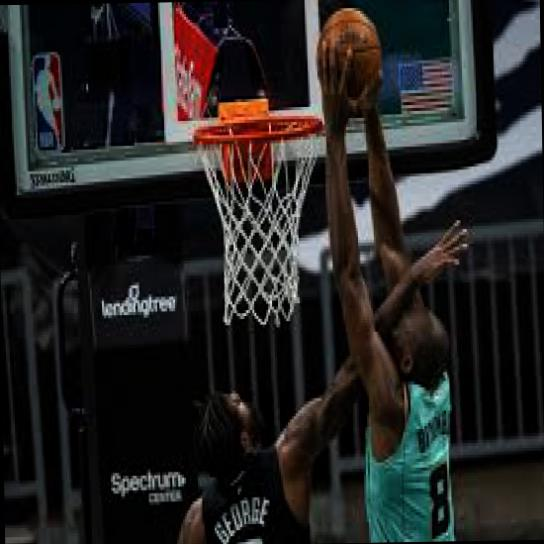basketball-hoop: (191, 112, 327, 331)
